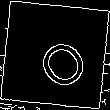O_NW: (22, 21, 88, 89)
